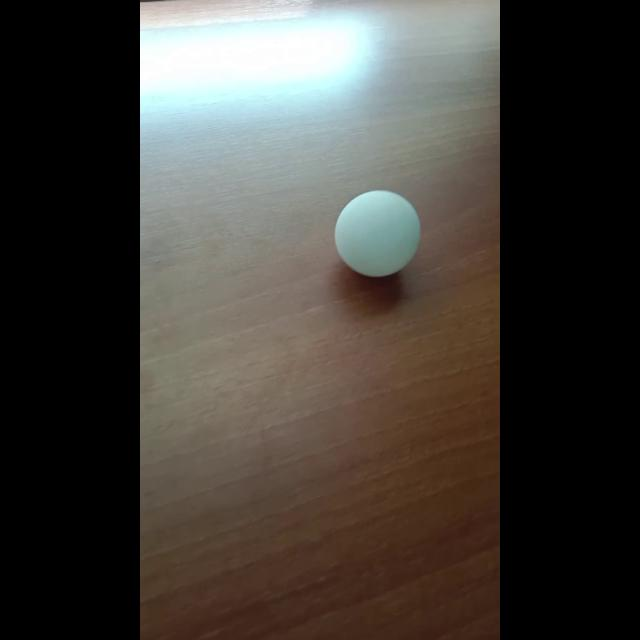white ball: (334, 189, 421, 277)
